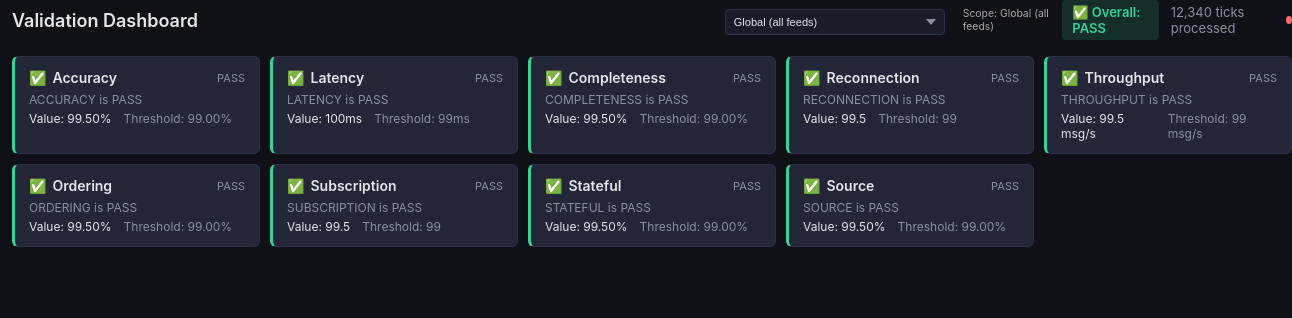
Test: ValidationDashboard › expands card details on click
Check: the text "p50" is not shown
// Click the Latency card
Click the text "Latency".
click(337, 78)  # box 310,69 -> 364,86
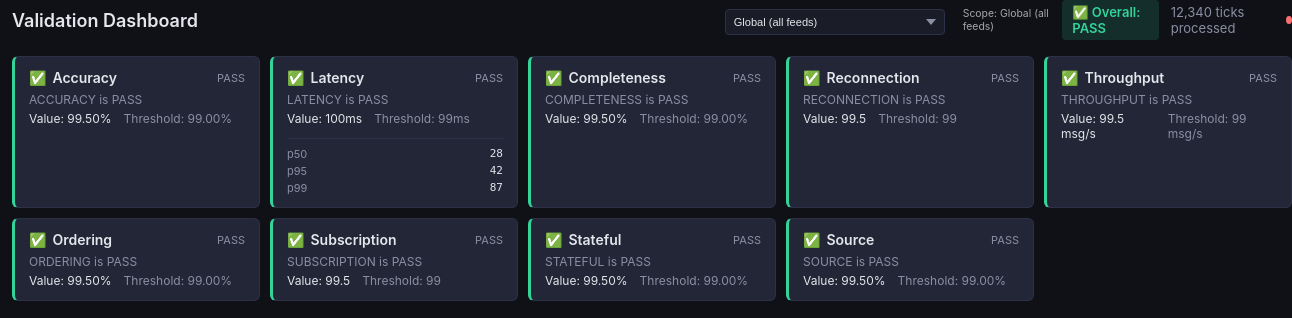
Check: the text "p50" is shown, box 287,147 -> 307,161
Check: the text "28" is shown, box 490,147 -> 503,161
Check: the text "p95" is shown, box 287,164 -> 307,178
